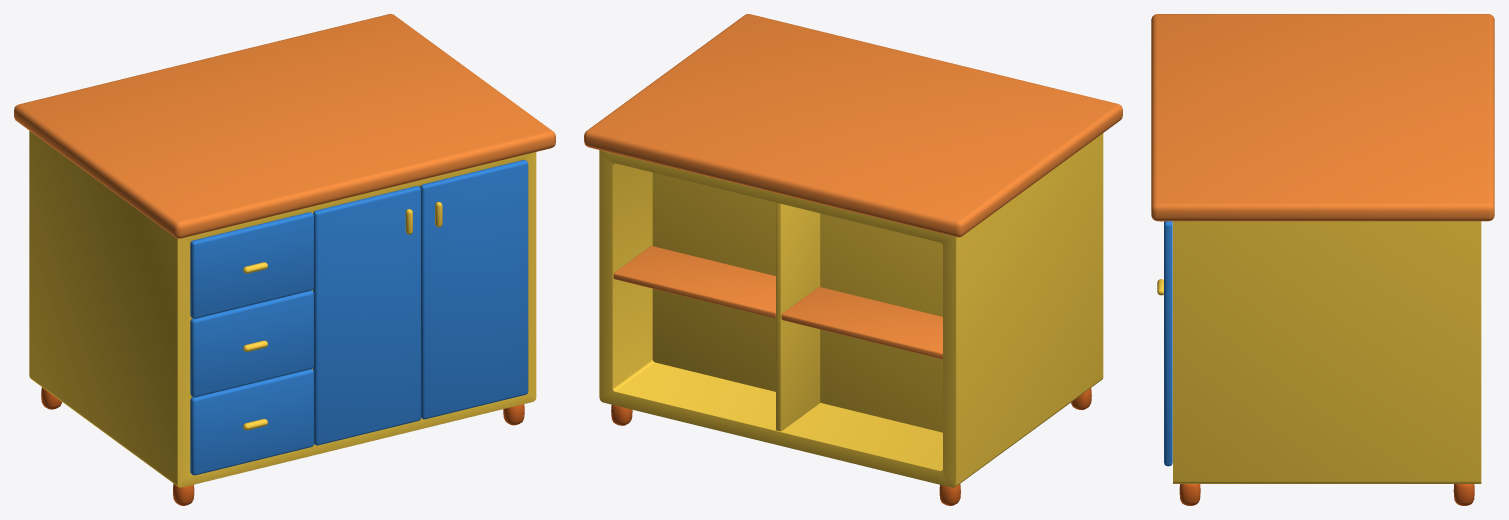
Rendered from ilha_cozinha_moderna.glb.
The picture shows the model from 3 angles, left to right: view 1: azimuth 30°, elevation 25°; view 2: azimuth 150°, elevation 25°; view 3: azimuth 270°, elevation 25°; orthographic projection. The views are drawn at different scales.
Parts seen in each view (by area): view 1: ilha_cozinha_moderna, porta_2, porta_1, gaveta_1, gaveta_2, gaveta_3; view 2: ilha_cozinha_moderna; view 3: ilha_cozinha_moderna, porta_2.
Part boxes in pixels (x1,y1,x2,y2): ilha_cozinha_moderna: (14, 14, 555, 505); porta_2: (420, 160, 528, 419); porta_1: (313, 186, 420, 445); gaveta_1: (190, 212, 313, 318); gaveta_2: (190, 290, 313, 397); gaveta_3: (190, 369, 313, 475); ilha_cozinha_moderna: (584, 14, 1122, 505); ilha_cozinha_moderna: (1151, 14, 1494, 505); porta_2: (1160, 221, 1172, 466).
Bounding box in the file's own units: 1.2 × 0.9 × 0.9.
1 material, 1 textured.
